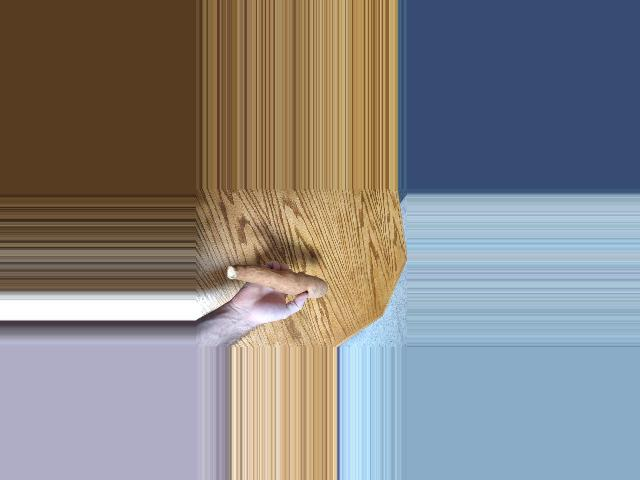sweet_potato: (230, 264, 333, 294)
